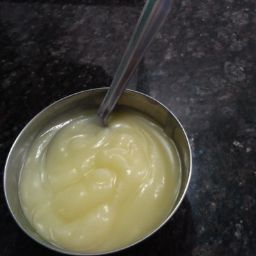Clarified Butter(ghee): (19, 113, 112, 237), (23, 142, 163, 216), (20, 183, 154, 256), (61, 116, 177, 187), (116, 112, 182, 216)
